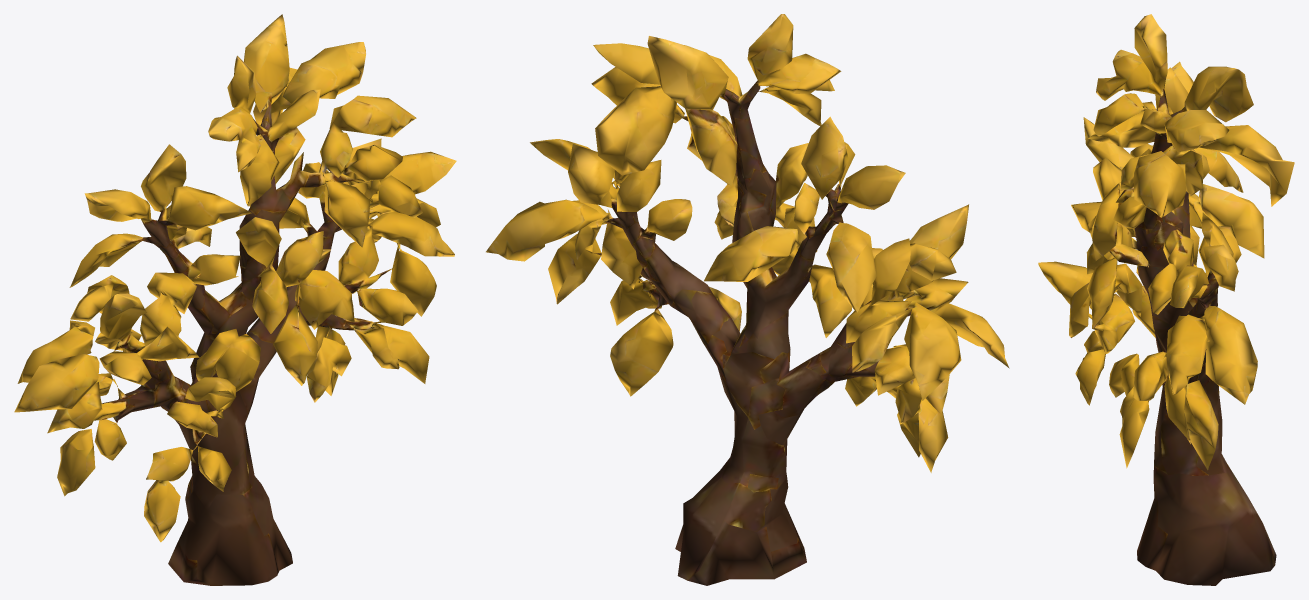
The model's file is preview.glb.
3 renders of one model, left to right at view 1: azimuth 30°, elevation 25°; view 2: azimuth 150°, elevation 25°; view 3: azimuth 270°, elevation 25°, orthographic.
Bounding box in the file's own units: 1.77 × 1.89 × 0.8209.
1 material, 1 textured.
